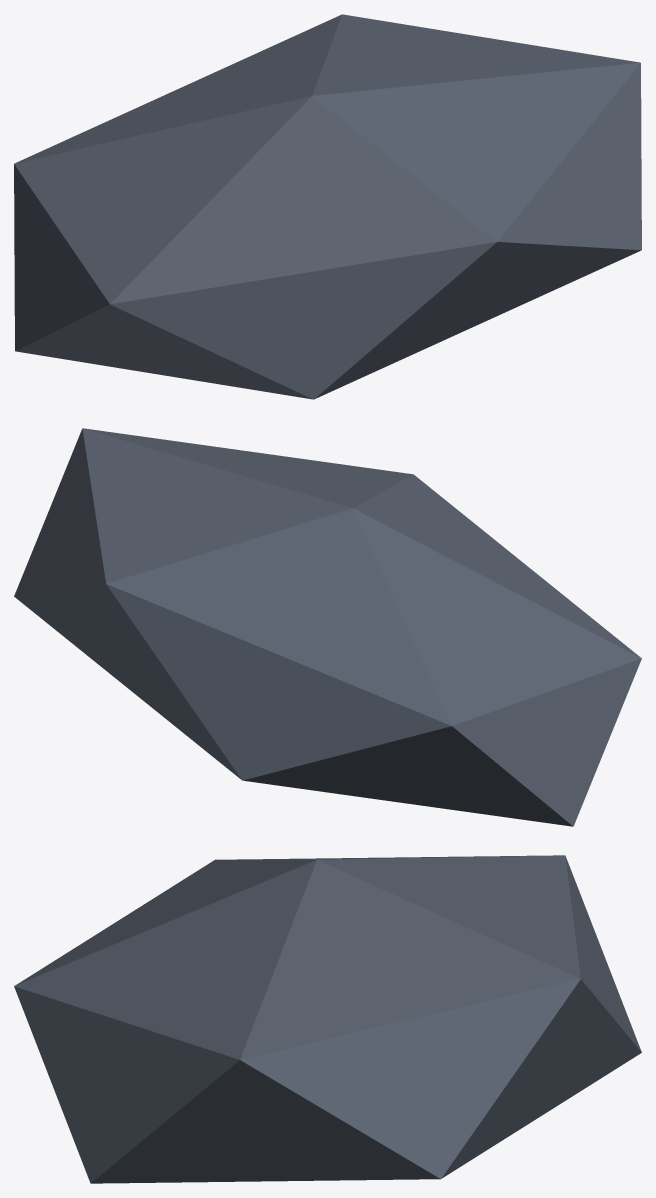
Rendered from EXTG_SouthLooseStone_01.glb.
The picture shows the model from 3 angles, top to bottom: view 1: azimuth 30°, elevation 25°; view 2: azimuth 150°, elevation 25°; view 3: azimuth 270°, elevation 25°; orthographic projection. The views are drawn at different scales.
Visible parts, largest first — view 1: EXTG_SouthLooseStone_01; view 2: EXTG_SouthLooseStone_01; view 3: EXTG_SouthLooseStone_01.
Boxes of the visible parts, x1,y1,x2,y2 form: EXTG_SouthLooseStone_01: [14, 14, 641, 399]; EXTG_SouthLooseStone_01: [14, 428, 641, 826]; EXTG_SouthLooseStone_01: [14, 855, 641, 1183].
Size of the model in its own units: 0.7709 by 0.3163 by 0.6107.
